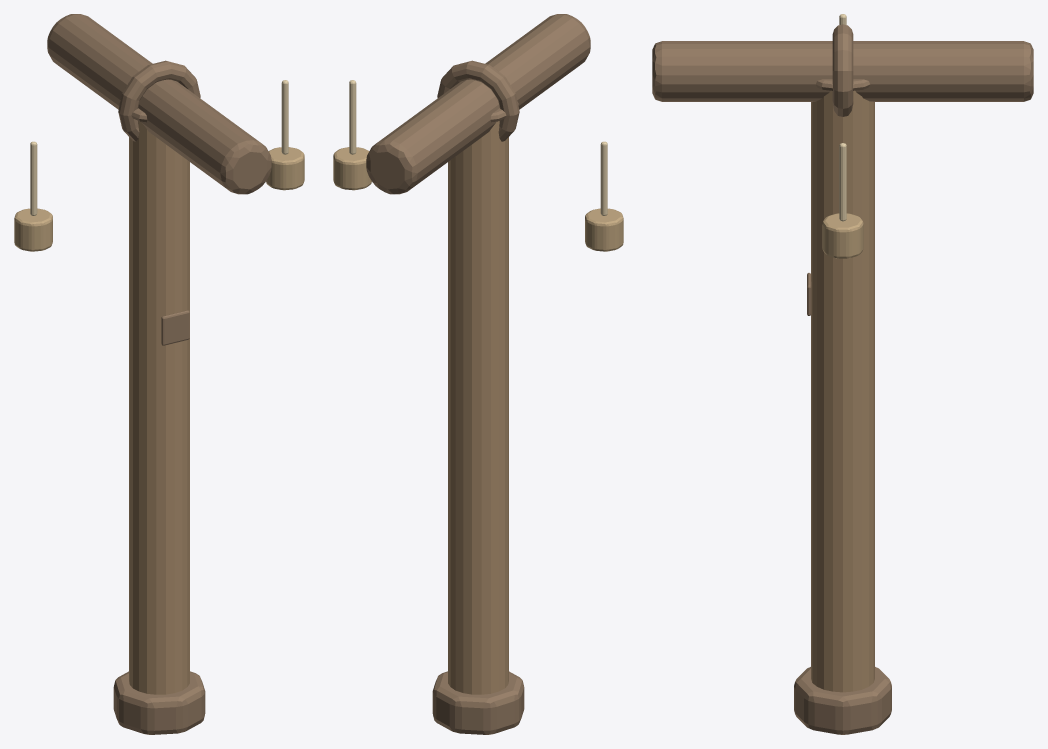
File: falconer_perch.glb
The picture shows the model from 3 angles, left to right: view 1: azimuth 30°, elevation 25°; view 2: azimuth 150°, elevation 25°; view 3: azimuth 270°, elevation 25°; orthographic projection. The views are drawn at different scales.
Parts seen in each view (by area): view 1: Post, Crossbar, Spike, Wrap, Bell0, Bell1, Notch, Cord1, Cord0; view 2: Post, Crossbar, Spike, Wrap, Bell0, Bell1, Cord1, Cord0; view 3: Post, Crossbar, Spike, Wrap, Bell1, Cord1.
Part boxes in pixels (x1=…): Post: x1=129, y1=121, x2=189, y2=694; Crossbar: x1=47, y1=14, x2=271, y2=194; Spike: x1=113, y1=671, x2=205, y2=734; Wrap: x1=118, y1=60, x2=200, y2=141; Bell0: x1=14, y1=208, x2=52, y2=251; Bell1: x1=266, y1=147, x2=304, y2=190; Notch: x1=161, y1=310, x2=189, y2=345; Cord1: x1=281, y1=80, x2=288, y2=154; Cord0: x1=30, y1=141, x2=37, y2=215; Post: x1=448, y1=121, x2=508, y2=694; Crossbar: x1=366, y1=14, x2=590, y2=194; Spike: x1=432, y1=671, x2=524, y2=734; Wrap: x1=437, y1=60, x2=519, y2=141; Bell0: x1=585, y1=208, x2=623, y2=251; Bell1: x1=333, y1=147, x2=371, y2=190; Cord1: x1=349, y1=80, x2=356, y2=154; Cord0: x1=600, y1=141, x2=607, y2=215; Post: x1=811, y1=90, x2=874, y2=692; Crossbar: x1=652, y1=41, x2=1033, y2=101; Spike: x1=794, y1=667, x2=891, y2=734; Wrap: x1=832, y1=24, x2=853, y2=116; Bell1: x1=822, y1=213, x2=863, y2=258; Cord1: x1=839, y1=143, x2=846, y2=221.
Bounding box in the file's own units: 0.4076 × 0.9006 × 0.45.
